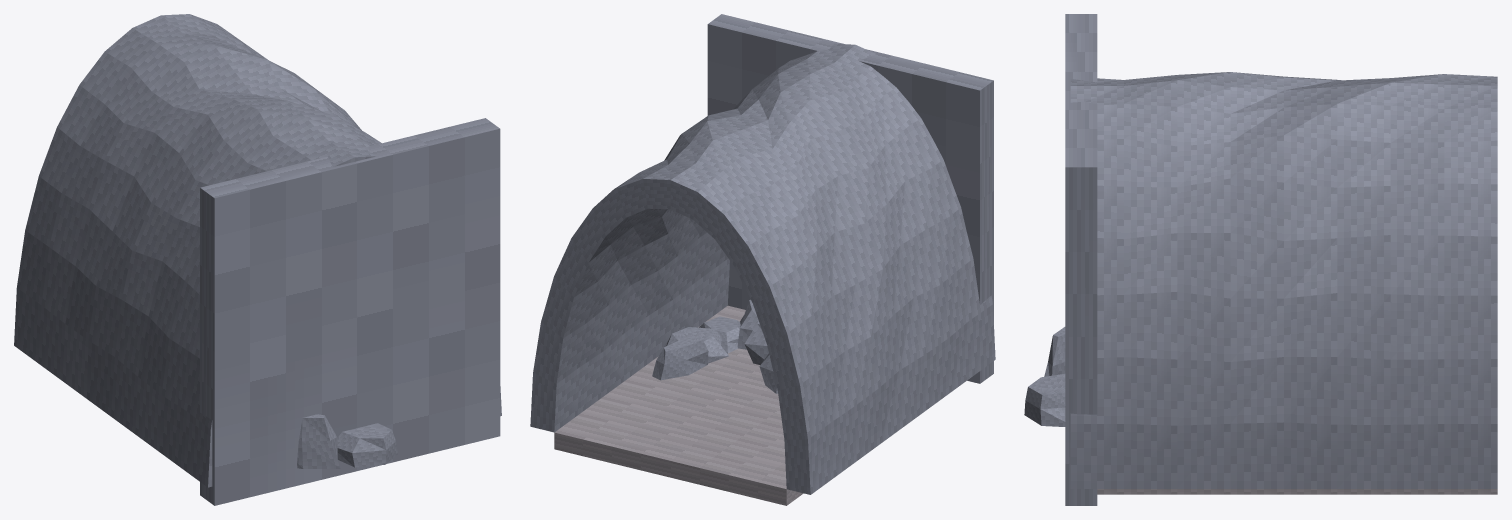
Rendered from cave-and-crystal-networks-rubble-blocked-end-476cd35c.glb.
The picture shows the model from 3 angles, left to right: view 1: azimuth 30°, elevation 25°; view 2: azimuth 150°, elevation 25°; view 3: azimuth 270°, elevation 25°; orthographic projection. The views are drawn at different scales.
Parts seen in each view (by area): view 1: rubble-blocked-end; view 2: rubble-blocked-end; view 3: rubble-blocked-end.
Boxes of the visible parts, box(x1,y1,x2,y2) form: rubble-blocked-end: box(14, 14, 501, 505); rubble-blocked-end: box(530, 14, 995, 505); rubble-blocked-end: box(1024, 14, 1497, 505).
Size of the model in its own units: 3.5 by 3.61 by 4.43.
Materials: 2 (2 with a texture image).
